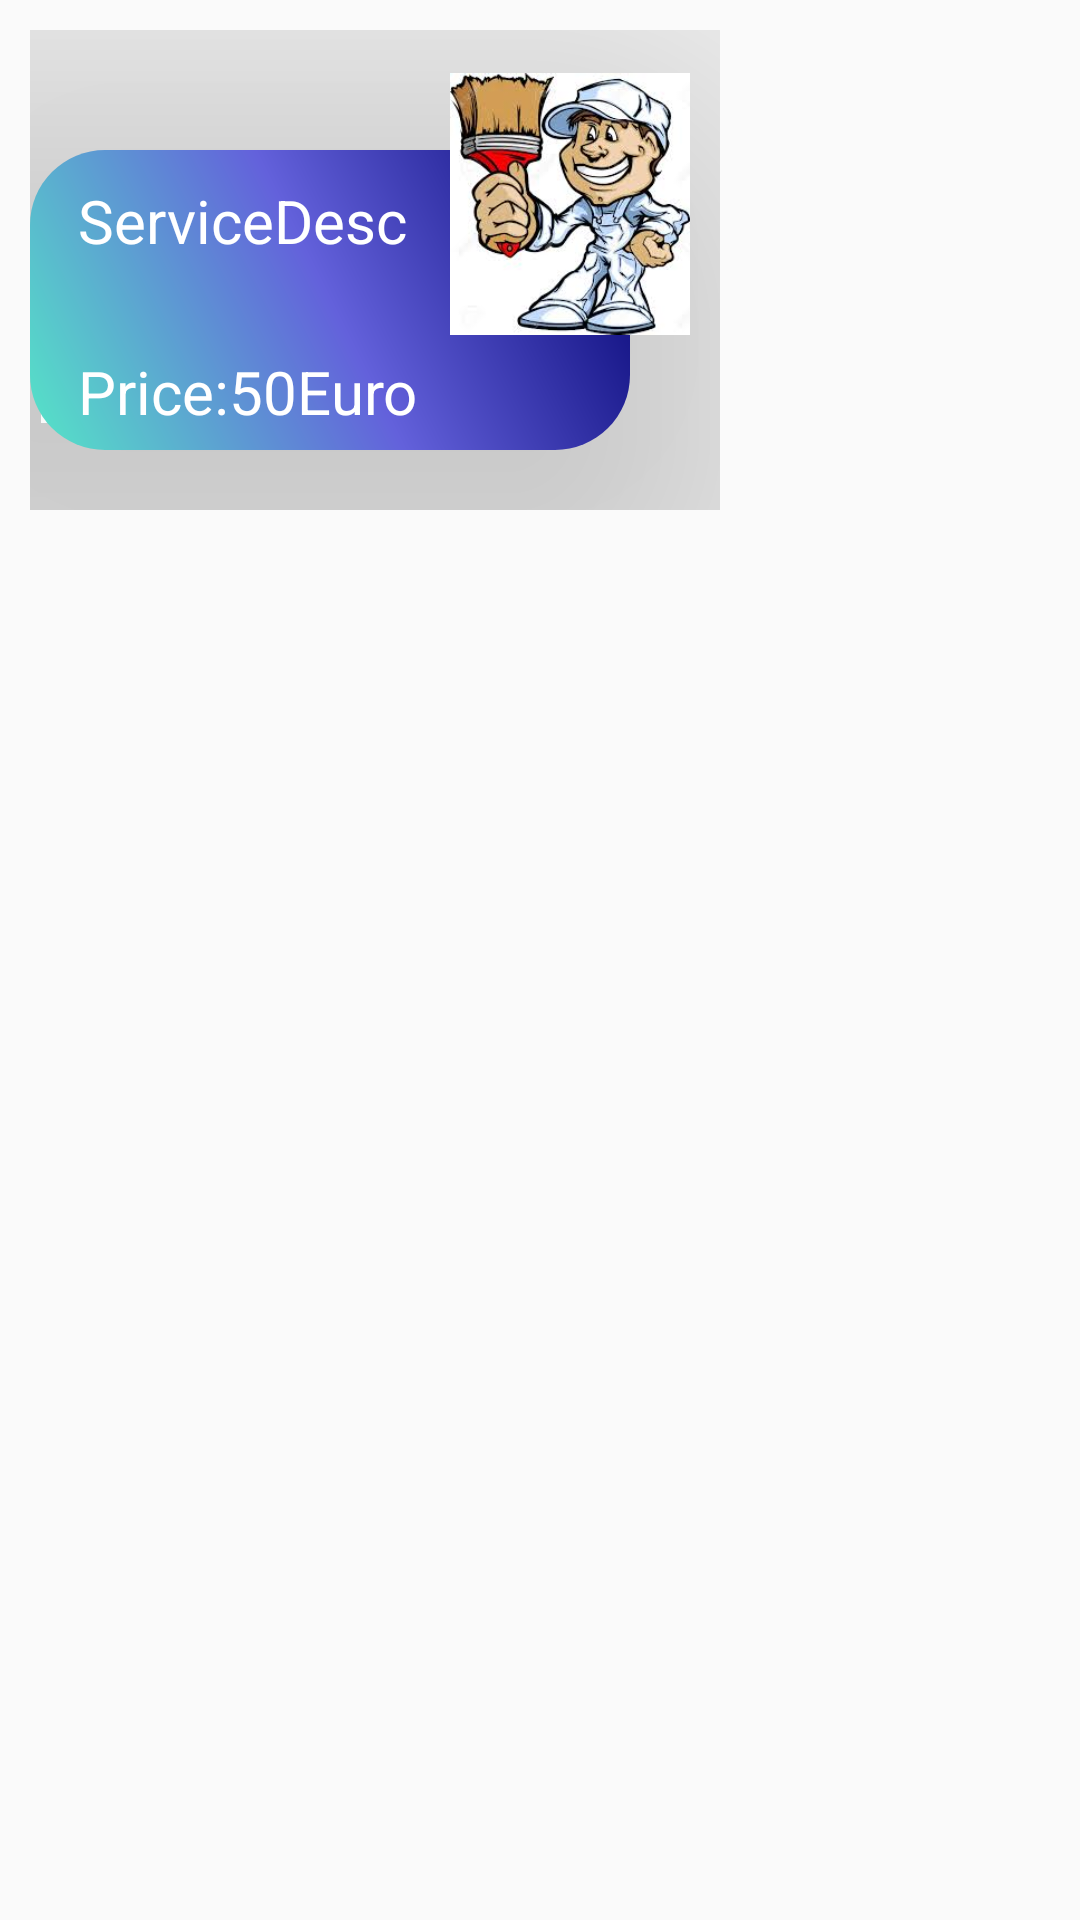

Named icons in this screenshot (1080 x 1920) and their bounding boxes, (left=x1, top=y1, right=x2, bottom=y2):
brush: (left=450, top=73, right=690, bottom=354)
